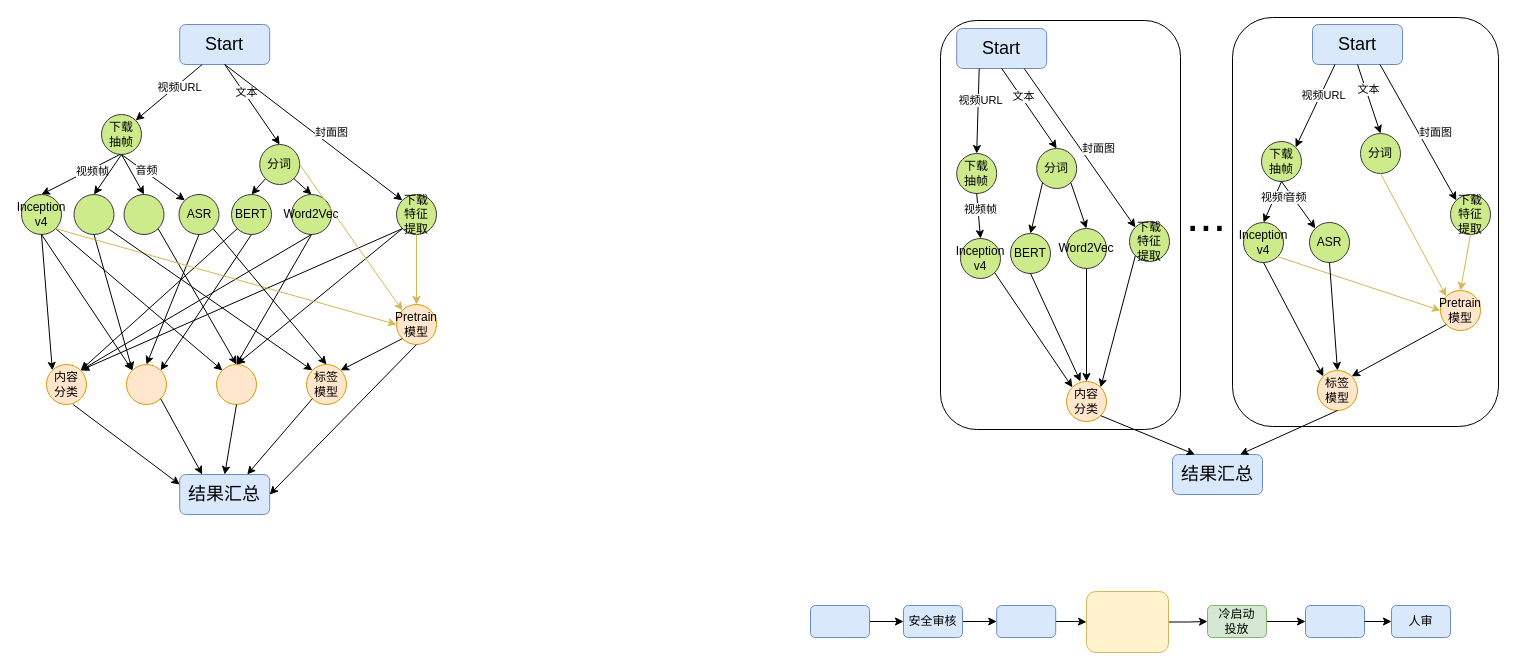
This 1516x670 diagram has some shape labels left out. Here are the shapes that lost their labels. From the top down, the box of each, then its label:
(73, 194, 114, 234): OCR
(123, 194, 164, 234): Audio Set
(126, 364, 166, 404): 情节 模型
(216, 364, 256, 404): 视频 质量
(810, 604, 870, 638): 内容生产
(996, 604, 1056, 638): 机器审核
(1086, 590, 1168, 652): 多模态内容识别实时服务
(1304, 604, 1364, 638): 优质内容筛选
